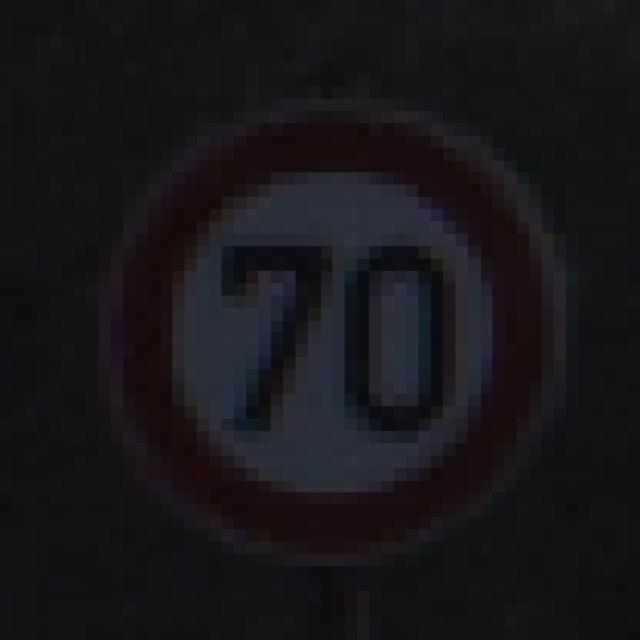forb_speed_over_70: (108, 121, 557, 556)
